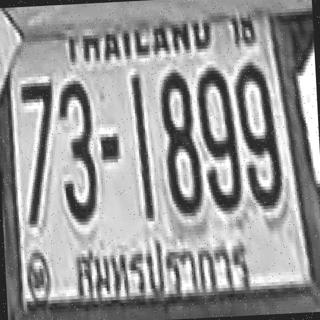N01: (130, 71, 152, 219)
N03: (56, 78, 98, 221)
N07: (19, 79, 58, 221)
N08: (158, 69, 201, 214)
N09: (234, 60, 282, 208), (196, 65, 240, 211)
P57: (71, 227, 258, 312)
